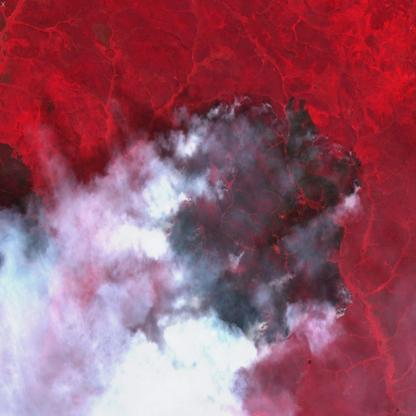fire: (154, 88, 362, 405)
